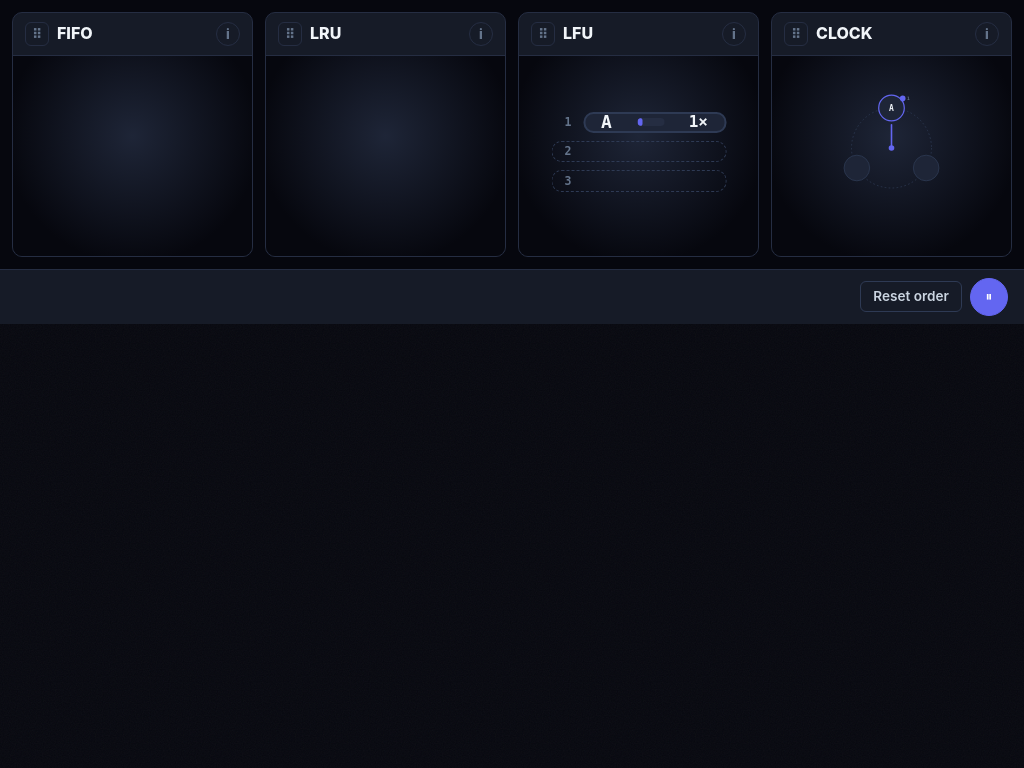
Test: RevisionView › the info popup shows the glossary definition, how it differs, and opens the variant
The width and height of the screenshot is (1024, 768).
Click the button named "About LRU" at (481, 34), box [469,22,493,46]
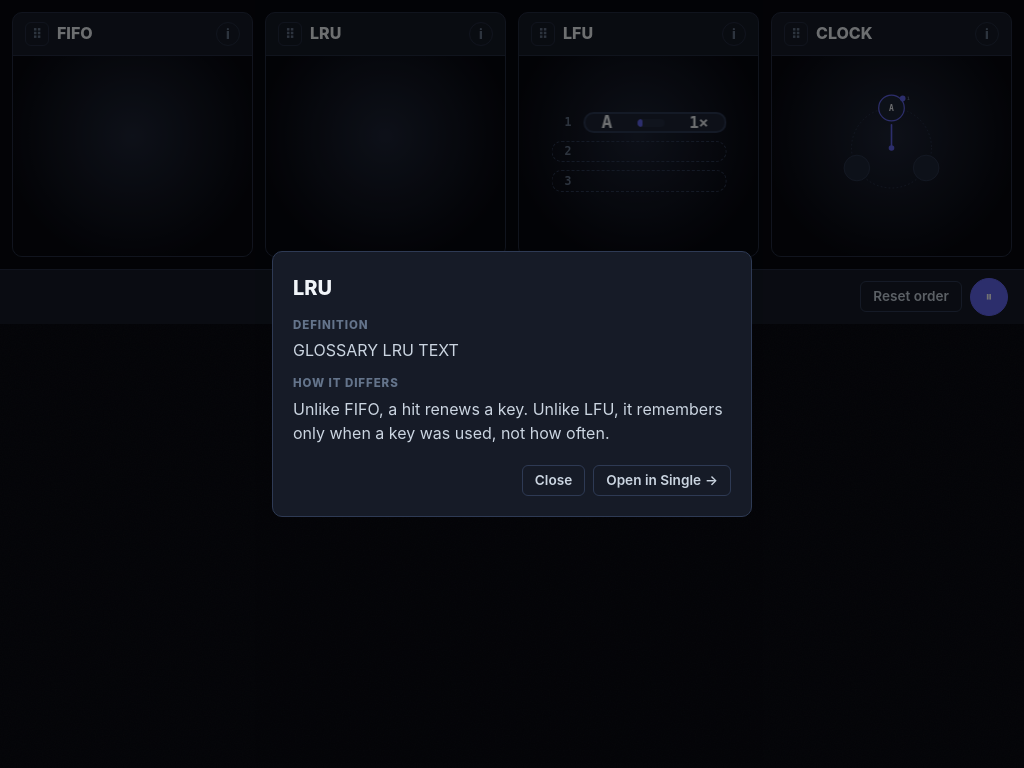
Check: the text "GLOSSARY LRU TEXT" is shown, box [293,340,459,360]
Check: the text "Unlike FIFO, a hit renews a key" is shown, box [293,398,723,442]
Click the button "Open in Single →" at (662, 480), box [593,464,731,496]
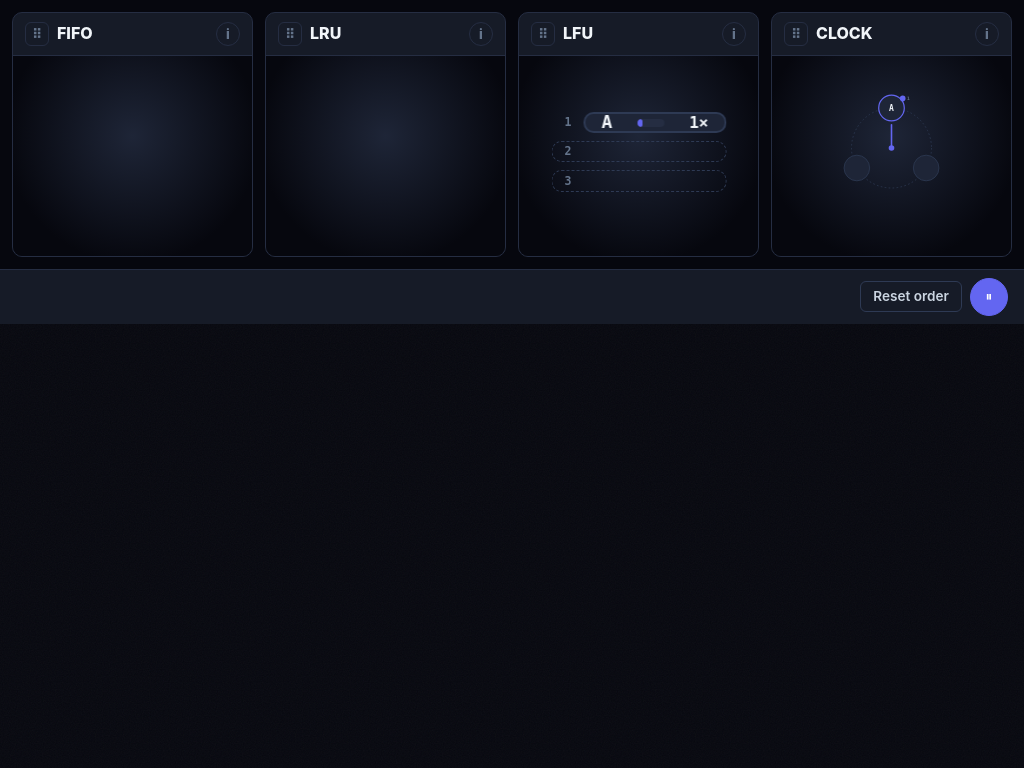
Check: the dialog is gone
